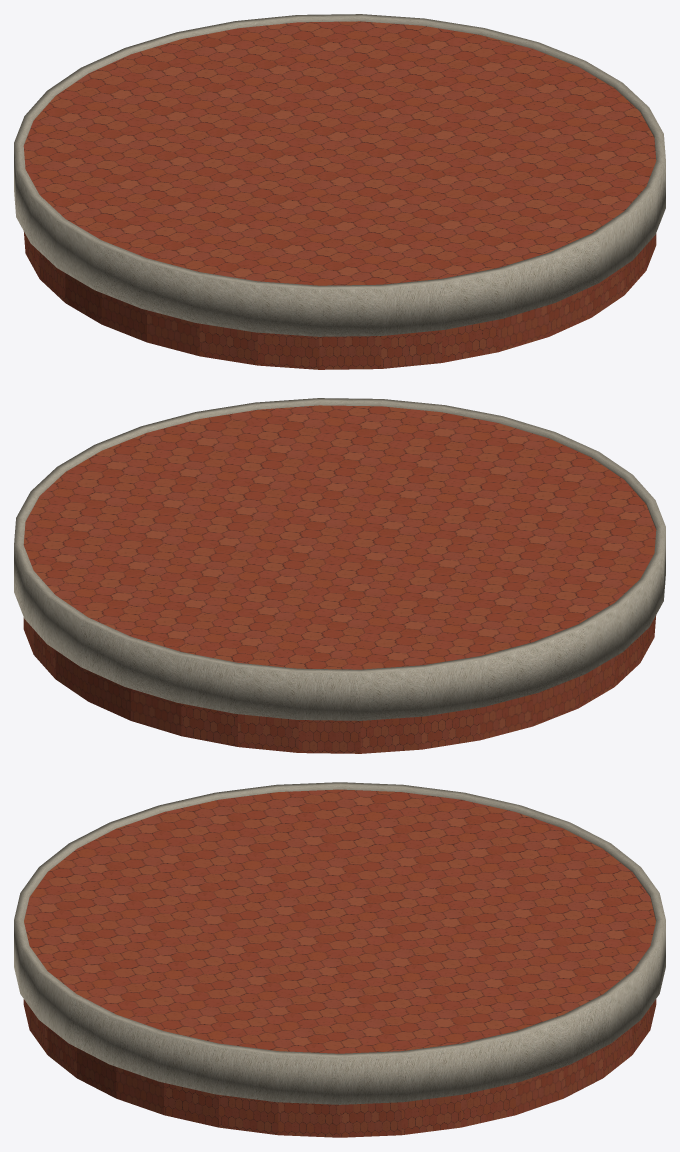
Rendered from path.fbx.
3 renders of one model, top to bottom at view 1: azimuth 30°, elevation 25°; view 2: azimuth 150°, elevation 25°; view 3: azimuth 270°, elevation 25°, orthographic.
Parts seen in each view (by area): view 1: Circle.002; view 2: Circle.002; view 3: Circle.002.
Boxes of the visible parts, x1,y1,x2,y2 form: Circle.002: [14, 14, 665, 369]; Circle.002: [14, 398, 665, 753]; Circle.002: [14, 782, 665, 1137].
Size of the model in its own units: 4469 by 636 by 4469.
2 materials, 2 textured.
